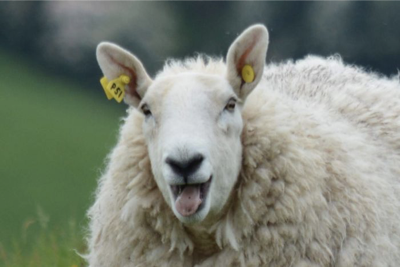koyun: (95, 22, 274, 221)
